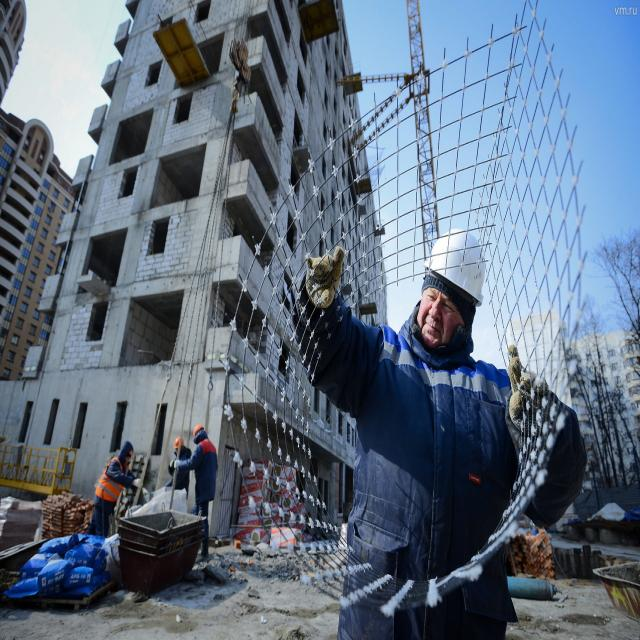Helmet: (174, 438, 185, 449)
Jacket: (424, 228, 486, 310), (101, 461, 127, 507)
NoJacket: (352, 366, 505, 633), (197, 442, 216, 501), (179, 452, 191, 488)
